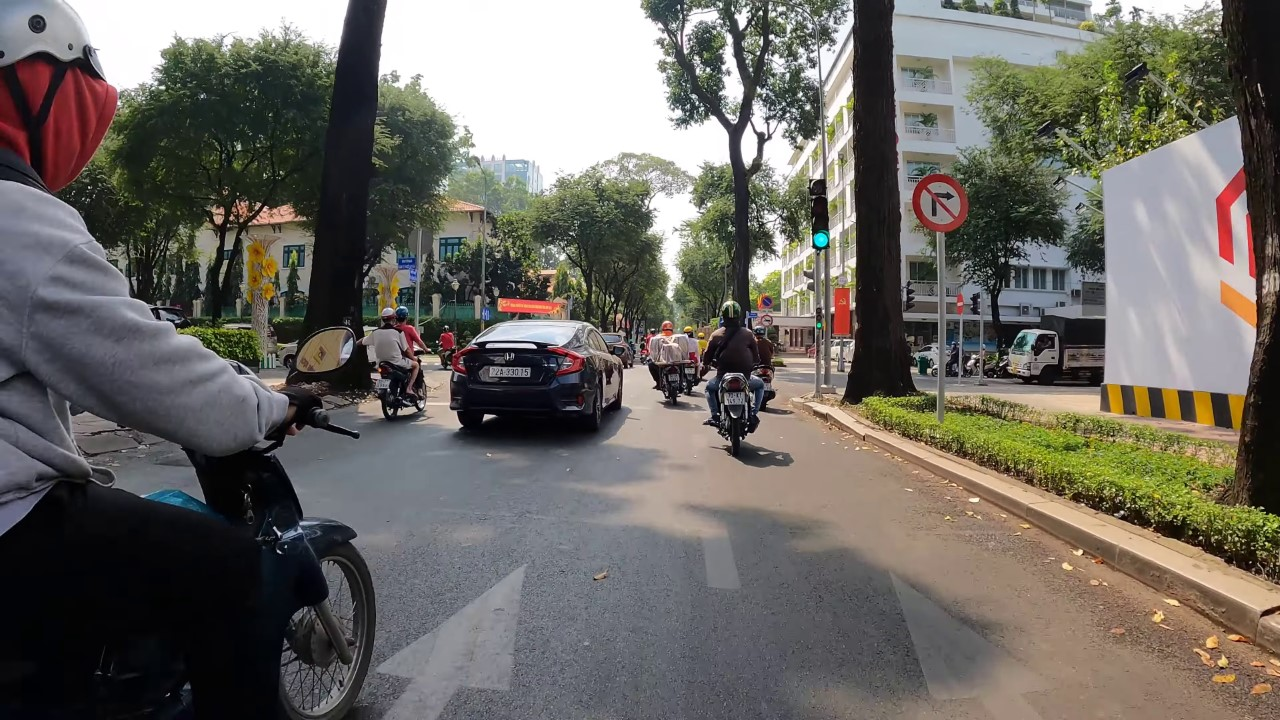cam_re_phai: (909, 169, 969, 235)
